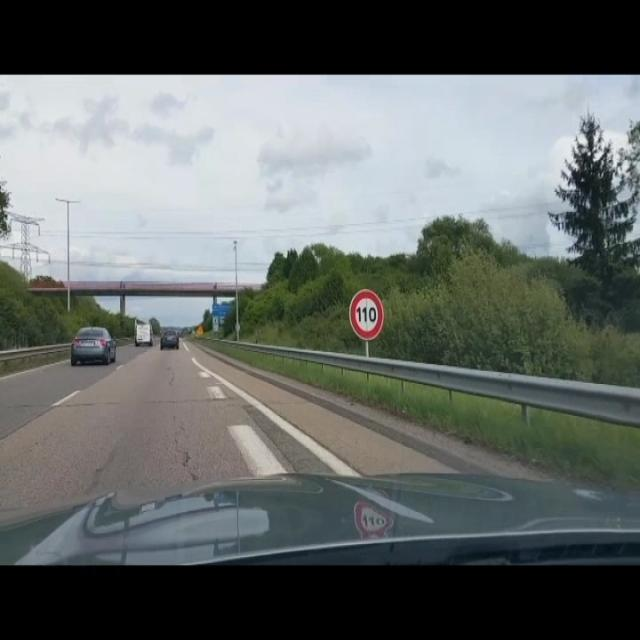speed_110: (349, 288, 385, 341)
